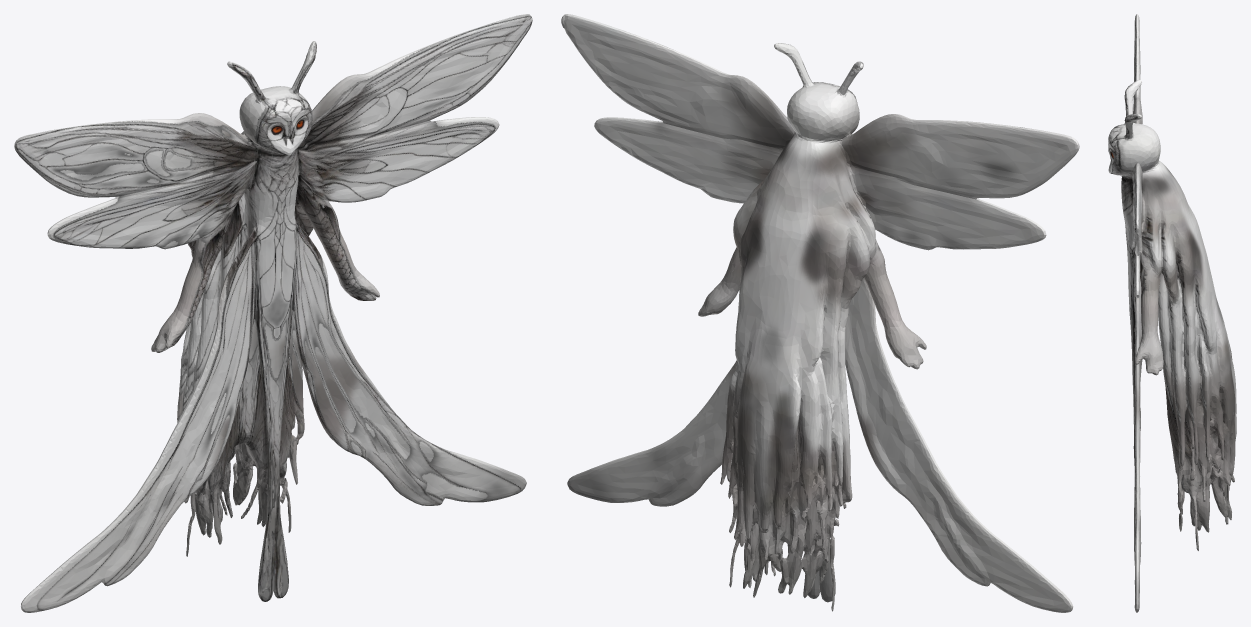
The model's file is mothwing_townsperson_local.glb.
3 views of the same model, side by side, from view 1: azimuth 30°, elevation 25°; view 2: azimuth 150°, elevation 25°; view 3: azimuth 270°, elevation 25° (orthographic). The views are drawn at different scales.
Visible parts, largest first — view 1: geometry_0; view 2: geometry_0; view 3: geometry_0.
Part boxes in pixels (x1,y1,x2,y2): geometry_0: (14,14,532,612); geometry_0: (561,14,1079,612); geometry_0: (1108,14,1236,612).
Size of the model in its own units: 1.73 by 1.75 by 0.4483.
1 material, 1 textured.
